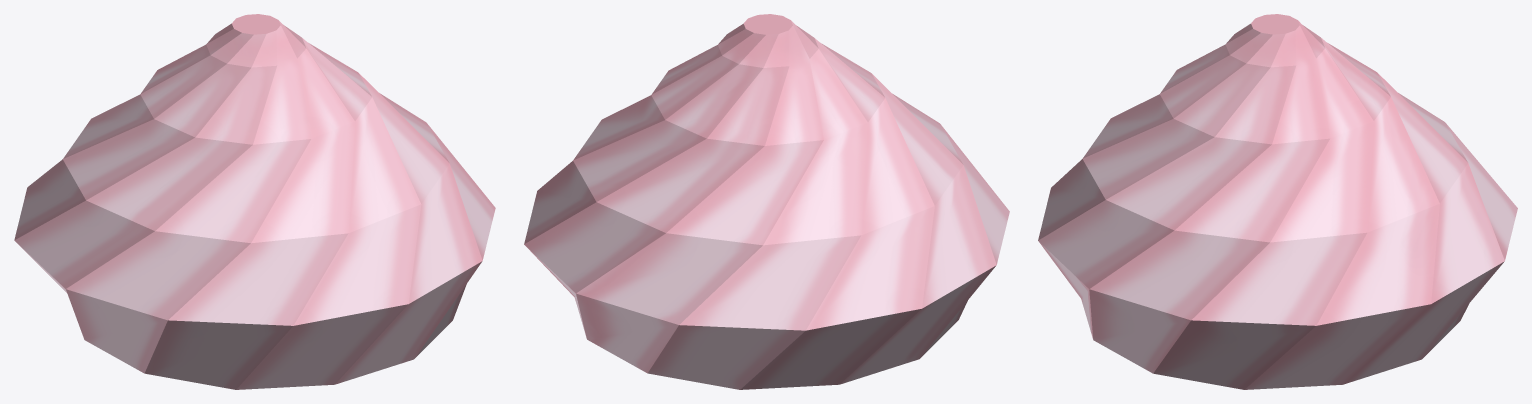
File: Merengue.fbx
3 views of the same model, side by side, from view 1: azimuth 30°, elevation 25°; view 2: azimuth 150°, elevation 25°; view 3: azimuth 270°, elevation 25° (orthographic).
Visible parts, largest first — view 1: pCylinder4; view 2: pCylinder4; view 3: pCylinder4.
Part boxes in pixels (x1,y1,x2,y2): pCylinder4: [14, 14, 495, 389]; pCylinder4: [524, 14, 1009, 389]; pCylinder4: [1038, 14, 1517, 389].
Bounding box in the file's own units: 13.06 × 8.52 × 13.06.
1 material, 1 textured.
